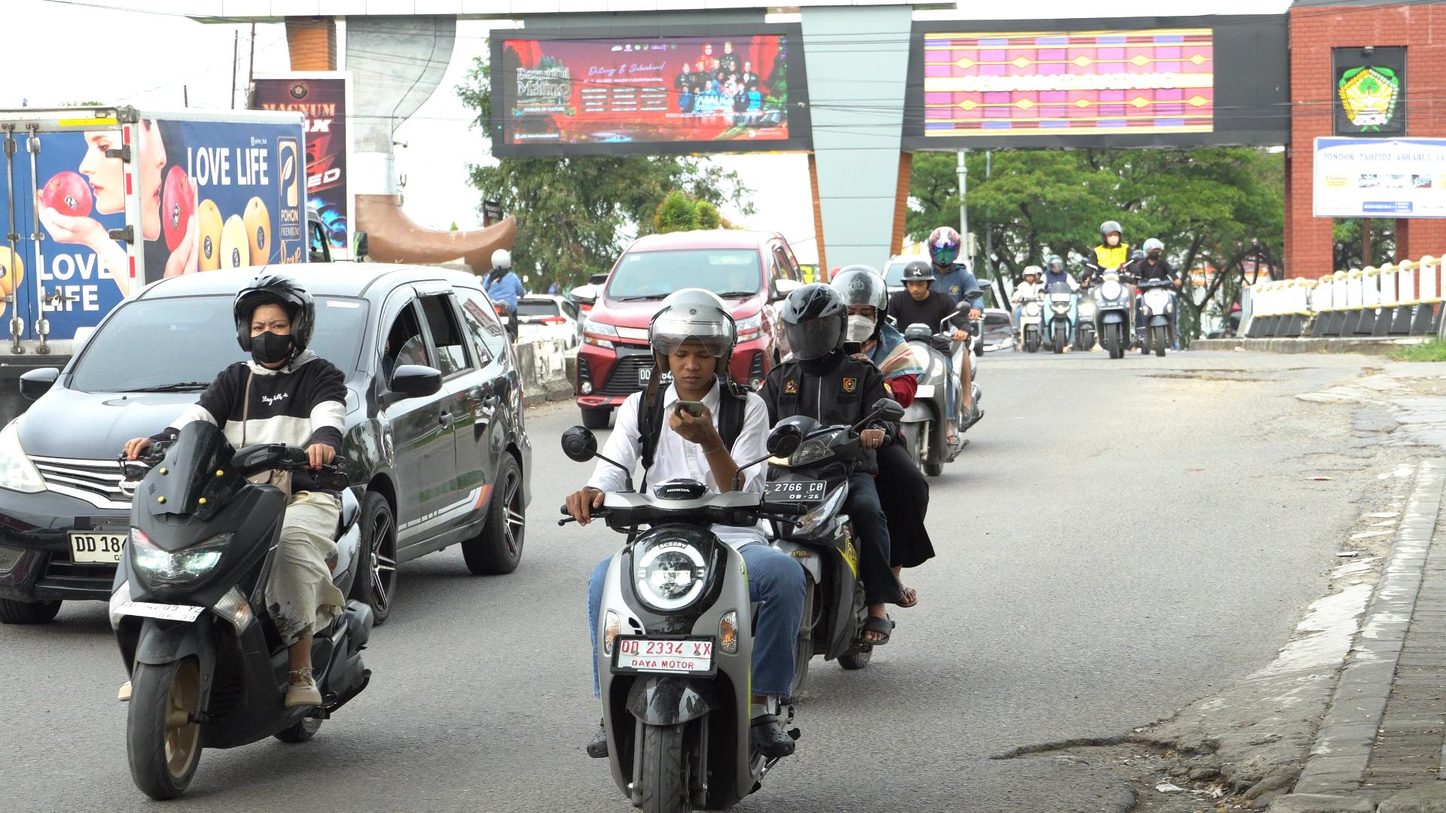number-plate: (610, 634, 714, 677)
